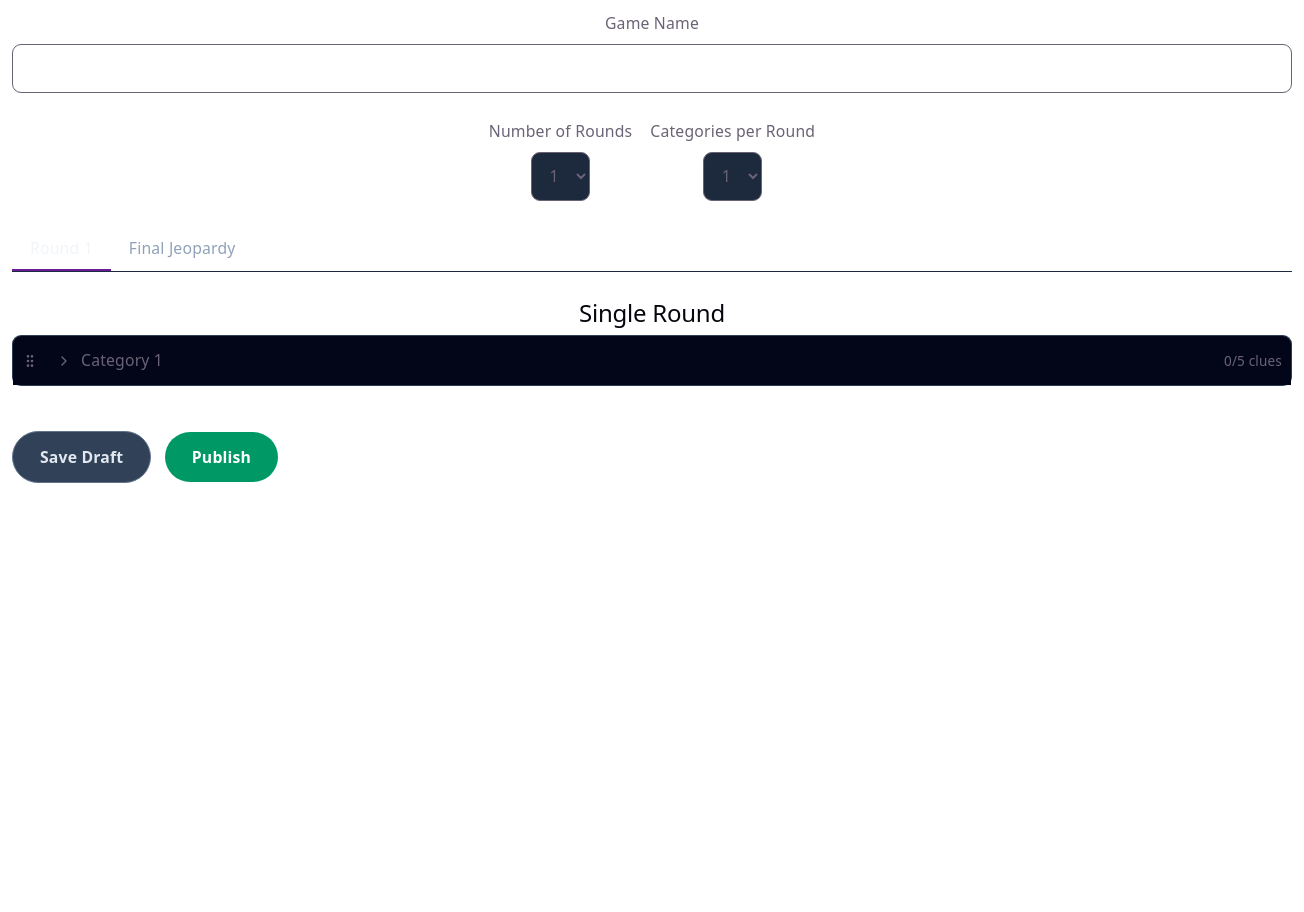
it: Accessibility: Keyboard navigation order (Req 11.1) › BuilderForm key inputs are focusable and in the document
Expected: the field labelled "Game Name" is shown, [12,44,1292,93]
Expected: the dropdown labelled "Number of Rounds" is shown, [531,152,590,201]
Click the tab "Final Jeopardy".
click(182, 249)  # box [111,228,253,270]
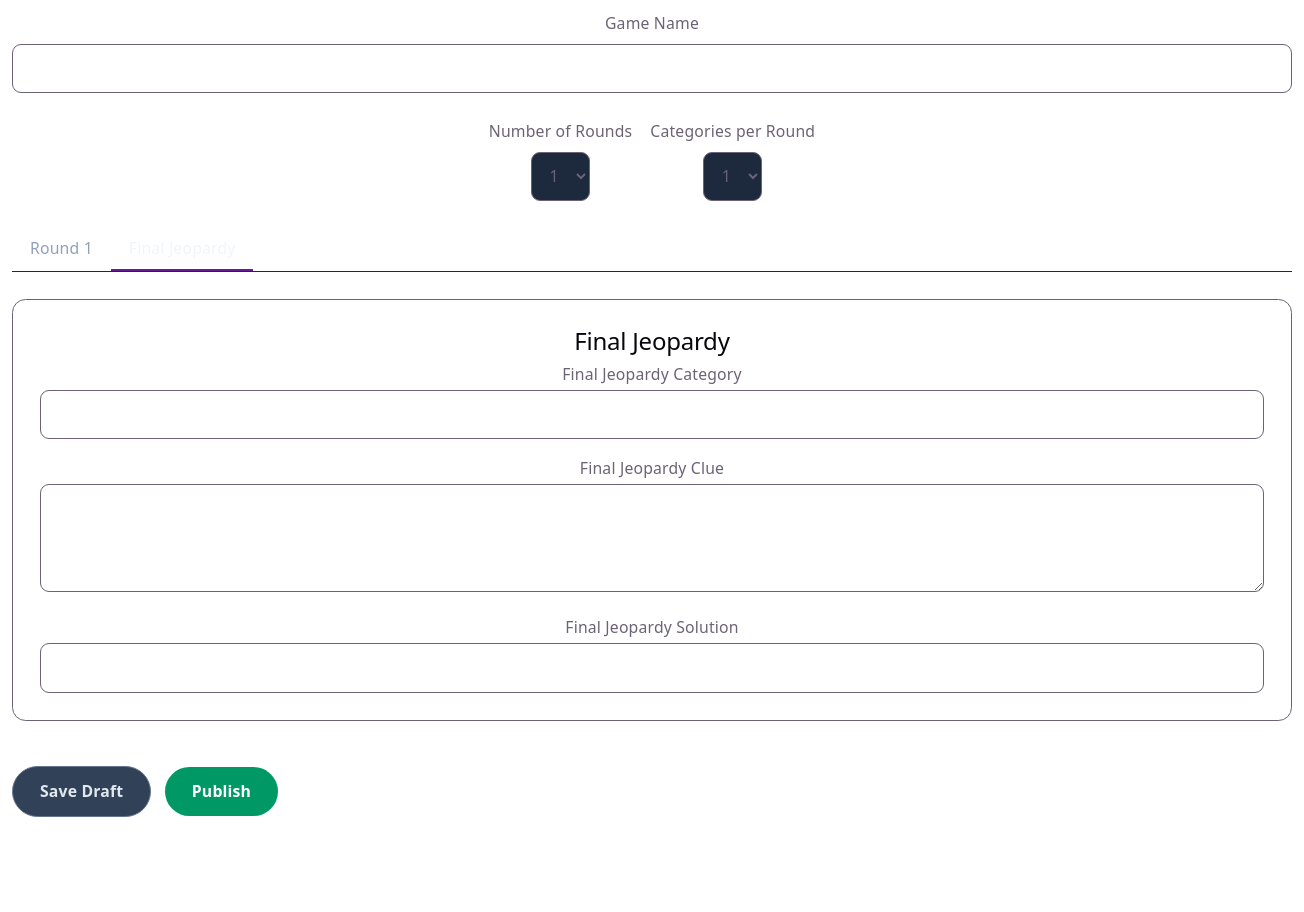
Now the field labelled "Final Jeopardy Category" is shown, box [40,390,1264,439]
Now the text box labelled "Final Jeopardy Clue" is shown, box [40,484,1264,592]
Now the field labelled "Final Jeopardy Solution" is shown, box [40,643,1264,693]
